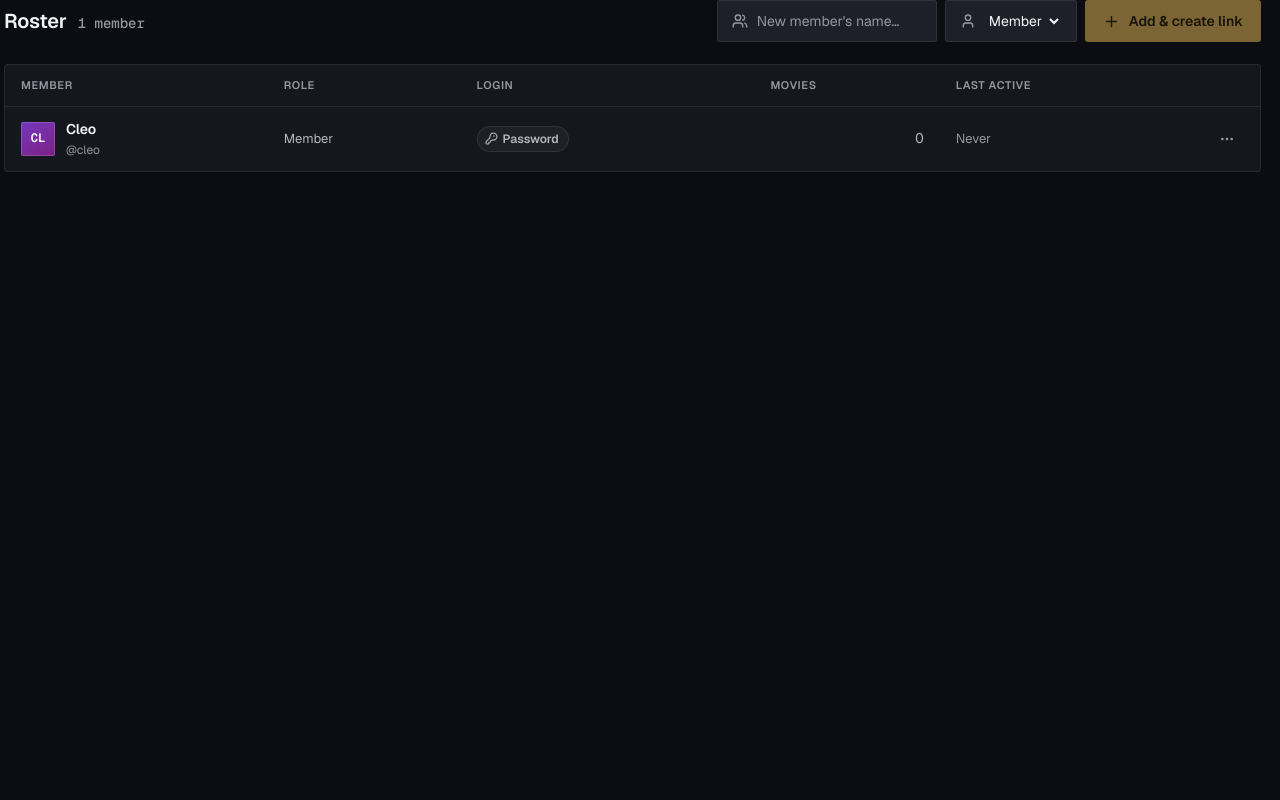
Test: invite state inside the roster › issues an explicit password reset link for a credentialed member
Click the button named "Actions for Cleo": x=1227, y=138 x1=1210 y1=122 x2=1244 y2=156
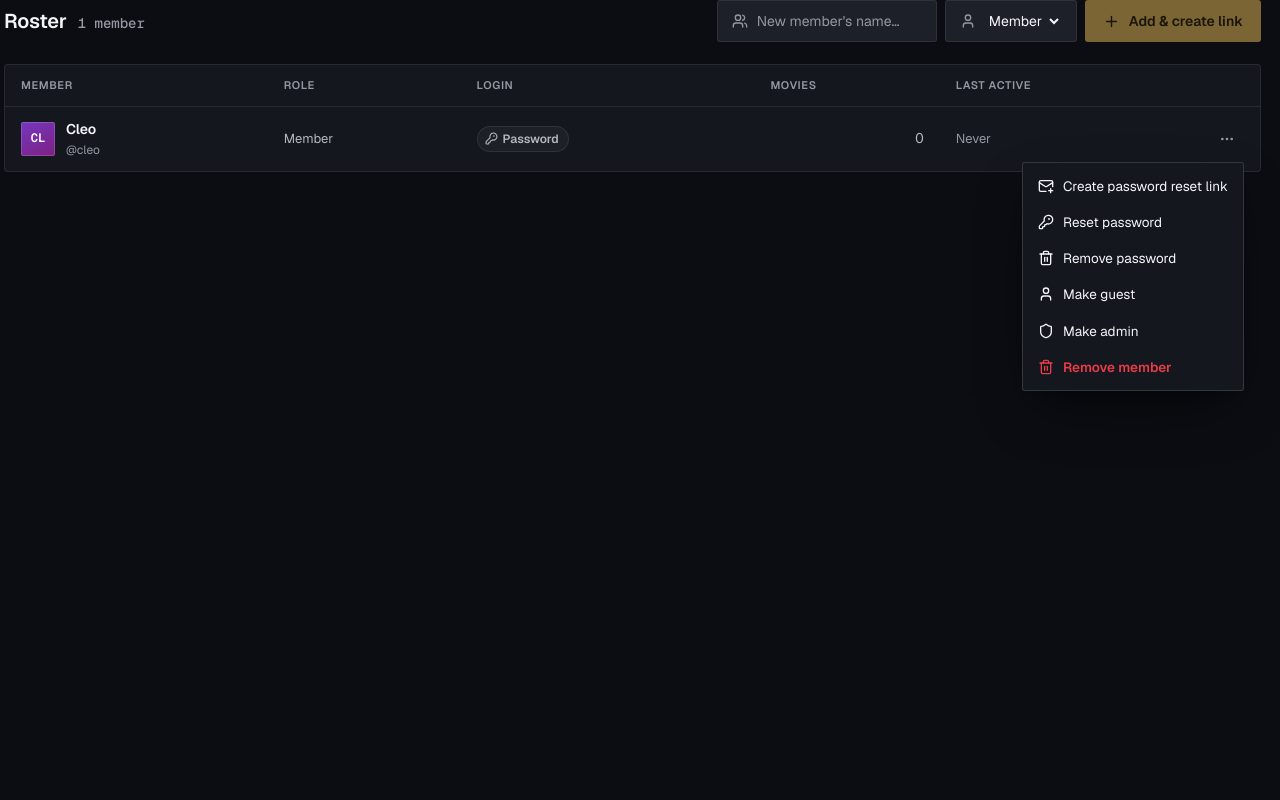
Click the menu item "Create password reset link": x=1133, y=186 x1=1028 y1=168 x2=1238 y2=204
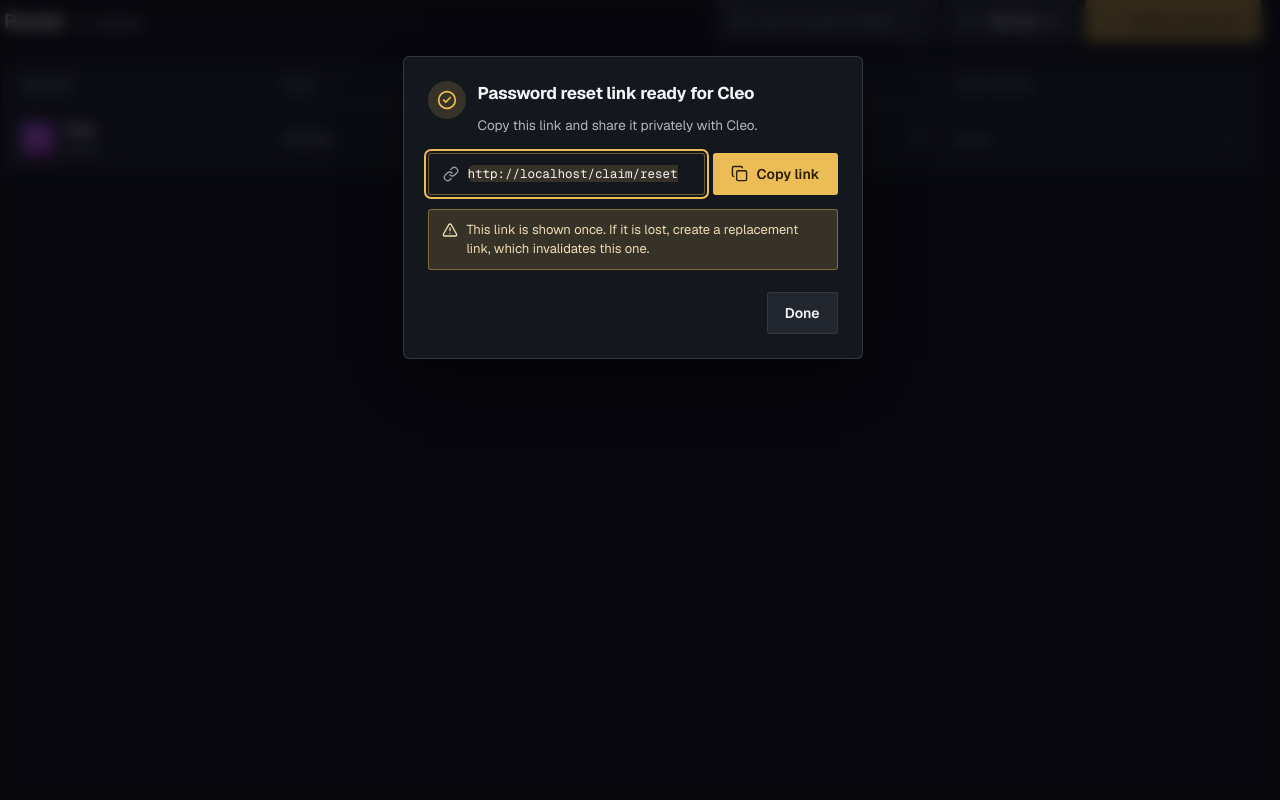
Expected: the heading reads "Password reset link ready for Cleo", x1=478 y1=81 x2=757 y2=106
Expected: the field named "Password reset link for Cleo" is shown, x1=468 y1=165 x2=690 y2=182
